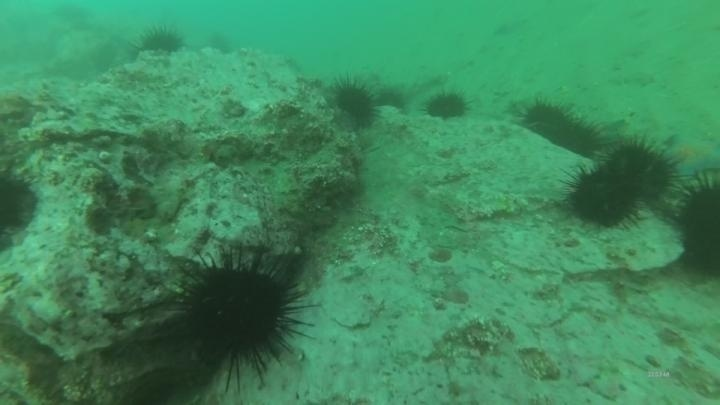echinus: (167, 246, 314, 383), (561, 163, 643, 230), (603, 136, 680, 204), (673, 172, 720, 282), (1, 166, 40, 240), (330, 76, 380, 128), (519, 96, 575, 142), (557, 122, 613, 168), (136, 23, 186, 57), (423, 89, 470, 122), (374, 86, 408, 113), (206, 30, 236, 57)
starfish: (661, 132, 719, 180)
